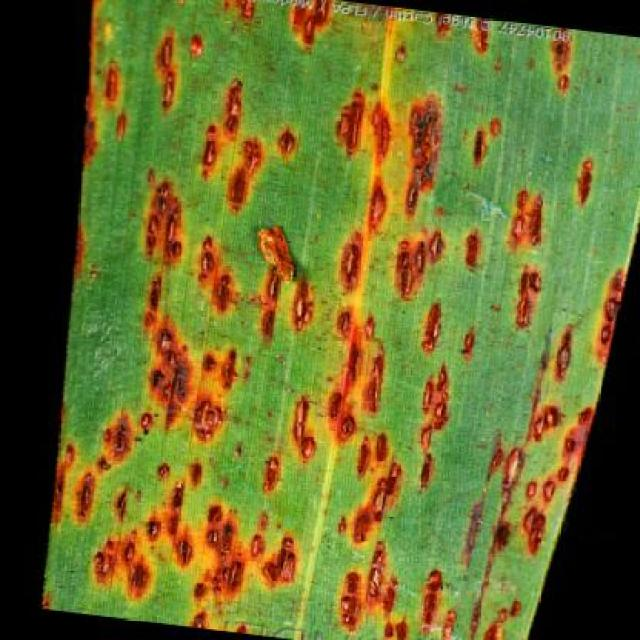Corn_Rust: (120, 46, 529, 619)
